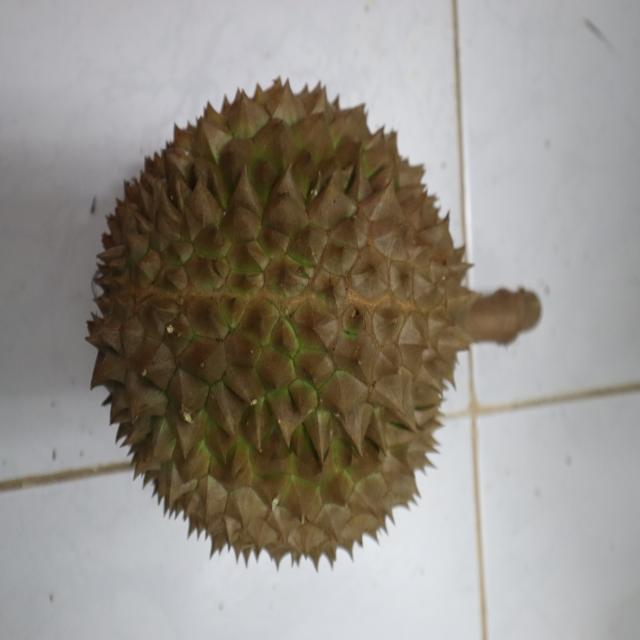mature: (83, 75, 474, 568)
